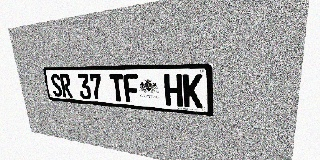3: (77, 74, 92, 99)
7: (88, 74, 103, 100)
F: (123, 74, 140, 103)
H: (164, 74, 183, 107)
K: (183, 74, 203, 108)
R: (59, 74, 73, 98)
S: (50, 74, 63, 97)
T: (109, 74, 125, 102)
